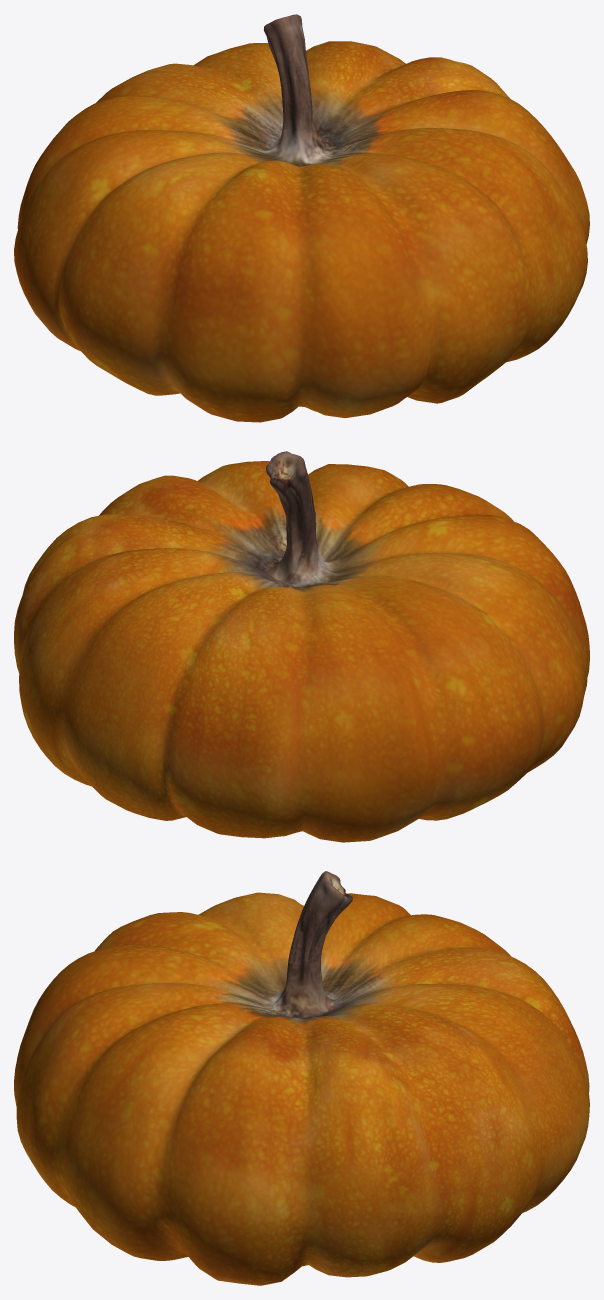
The model's file is Zucca.glb.
The picture shows the model from 3 angles, top to bottom: view 1: azimuth 30°, elevation 25°; view 2: azimuth 150°, elevation 25°; view 3: azimuth 270°, elevation 25°; orthographic projection.
Parts seen in each view (by area): view 1: default; view 2: default; view 3: default.
Boxes of the visible parts, box(x1,y1,x2,y2) form: default: box(14, 14, 589, 422); default: box(14, 451, 589, 842); default: box(14, 871, 589, 1285).
Size of the model in its own units: 0.2043 by 0.1254 by 0.1999.
Materials: 1 (1 with a texture image).
